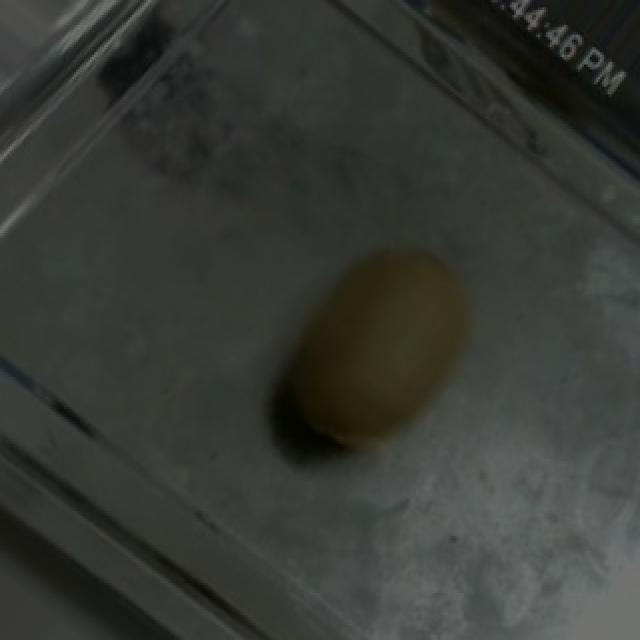Fruit: (256, 206, 516, 476)
